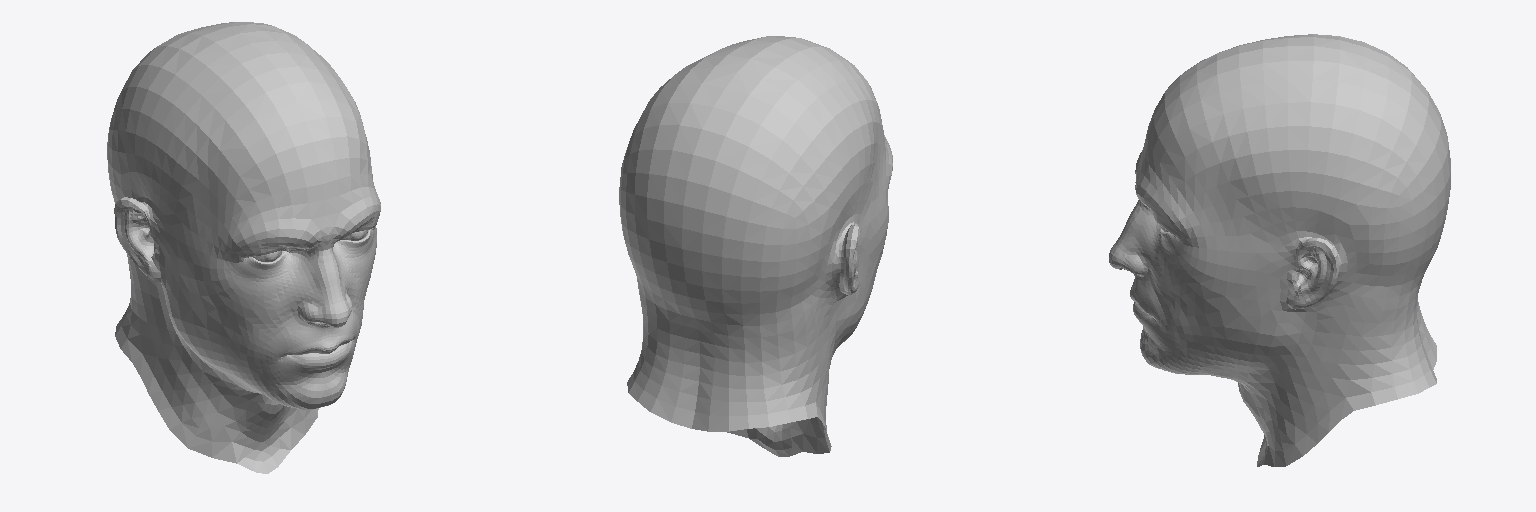
The model's file is human_with_eyes.obj.
3 views of the same model, side by side, from view 1: azimuth 30°, elevation 25°; view 2: azimuth 150°, elevation 25°; view 3: azimuth 270°, elevation 25° (orthographic).
Parts seen in each view (by area): view 1: man_body_0014_uv_map; view 2: man_body_0014_uv_map; view 3: man_body_0014_uv_map.
Boxes of the visible parts, x1,y1,x2,y2 form: man_body_0014_uv_map: [107, 22, 380, 473]; man_body_0014_uv_map: [619, 36, 892, 456]; man_body_0014_uv_map: [1109, 34, 1450, 466].
Size of the model in its own units: 0.1767 by 0.3092 by 0.2288.